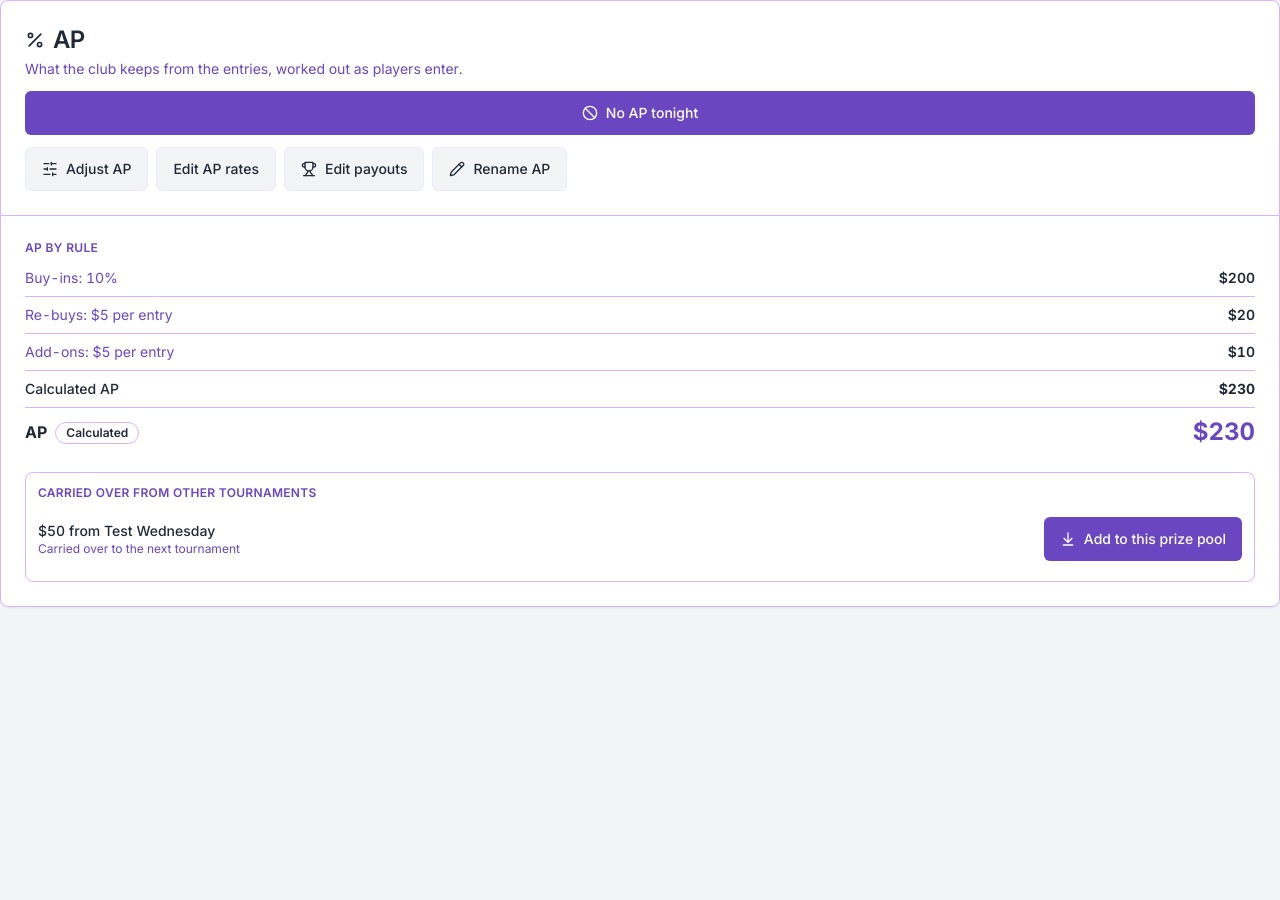
Test case: ApPanel › says why carried-over money could not be added, e.g. another tournament took it first
Click the button with aria-label "Add the $50 from Test Wednesday to this prize pool" at [1143, 539], box [1044,517,1242,561]
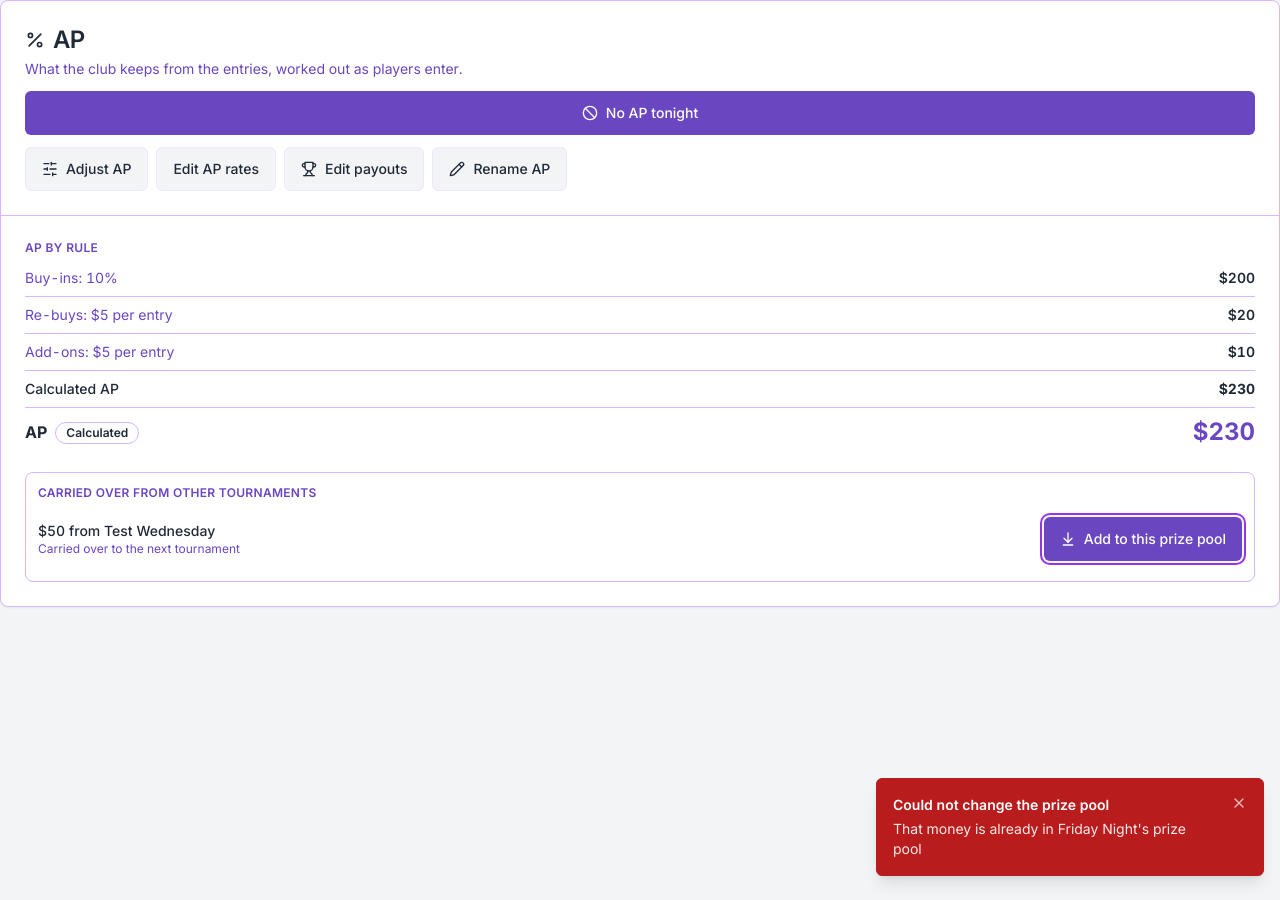
Expected: the text "Could not change the prize pool" is shown, [893,796,1109,813]
Expected: the text "That money is already in Friday Night's prize pool" is shown, [893,819,1215,859]
